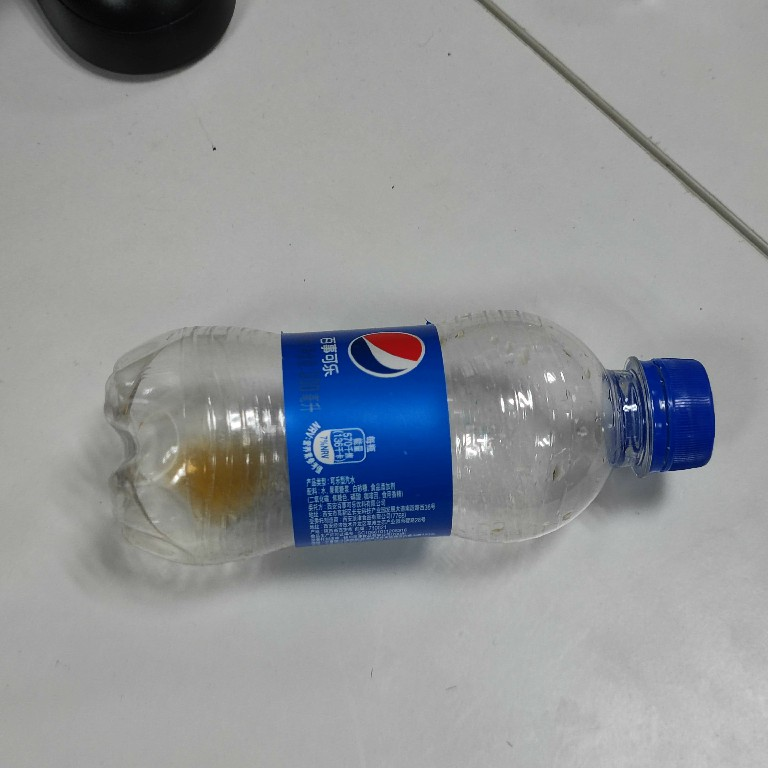bottle: (93, 306, 727, 569)
